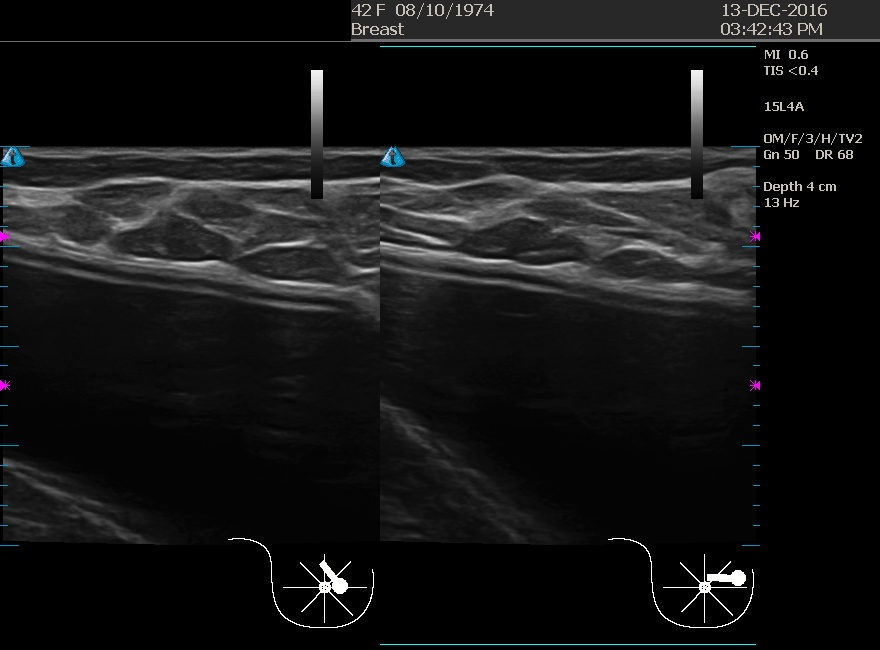BIRADS_3: (45, 152, 245, 352), (405, 152, 605, 352)
